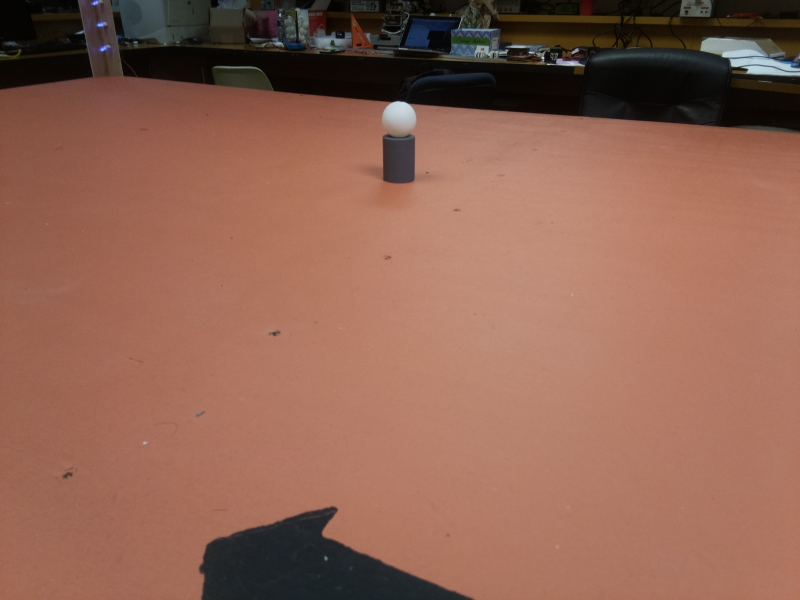obstacle: (379, 100, 418, 186)
start: (182, 504, 478, 597)
